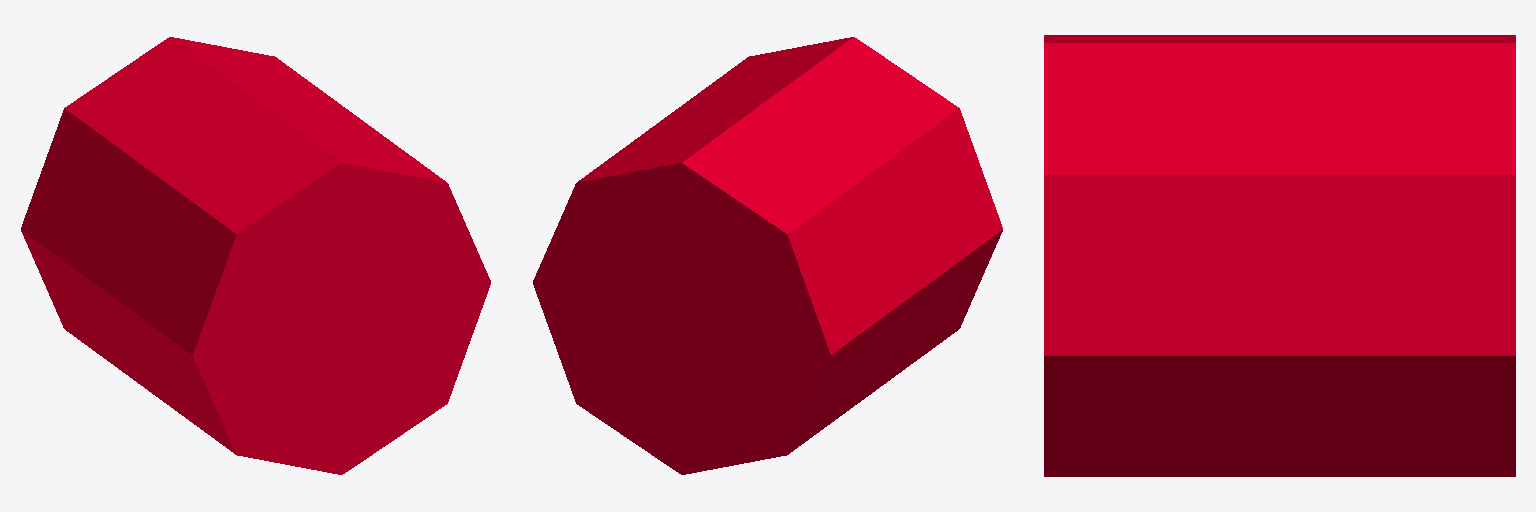
URDF robot description (octagonal_prism.urdf):
<?xml version="1.0" ?>
<robot name="octagonal_prism.urdf">

  <link name="octagonal_prism">
    <contact>
    	<friction_anchor/>
    	   <lateral_friction value="1.0"/>
    </contact>
    <inertial>
      <origin rpy="0 0 0" xyz="0 0 0"/>
       <mass value=".1"/>
       <inertia ixx="1" ixy="0" ixz="0" iyy="1" iyz="0" izz="1"/>
    </inertial>
    <visual>
      <origin rpy="0 0 0" xyz="0 0 0"/>
      <geometry>
				<mesh filename="octagonal_prism.obj" scale="1.0 1.0 1.0"/>
      </geometry>
       <material name="red">
        <color rgba="0.9 0 0.2 1.0"/>
      </material>
    </visual>
    <collision>
      <origin rpy="0 0 0" xyz="0 0 0"/>
      <geometry>
				<mesh filename="octagonal_prism.obj" scale="1.0 1.0 1.0"/>
      </geometry>
    </collision>
  </link>


</robot>

--- Facts derived from the render (not from the file) ---
Views: 3 orthographic renders of the robot side by side, from view 1: azimuth 30°, elevation 25°; view 2: azimuth 150°, elevation 25°; view 3: azimuth 270°, elevation 25°.
Model octagonal_prism.urdf with 1 links and 0 joints (none), rooted at octagonal_prism, posed every joint at zero.
Links seen in each view (by area): view 1: octagonal_prism; view 2: octagonal_prism; view 3: octagonal_prism.
Boxes of the visible links, bbox=[...] form: octagonal_prism: bbox=[21, 37, 490, 474]; octagonal_prism: bbox=[533, 37, 1002, 474]; octagonal_prism: bbox=[1044, 35, 1515, 476].
Size in the robot's own frame: 0.1 by 0.1 by 0.1 metres.
Meshes: 1 distinct files referenced, 1 mesh visuals loaded (1 OBJ).